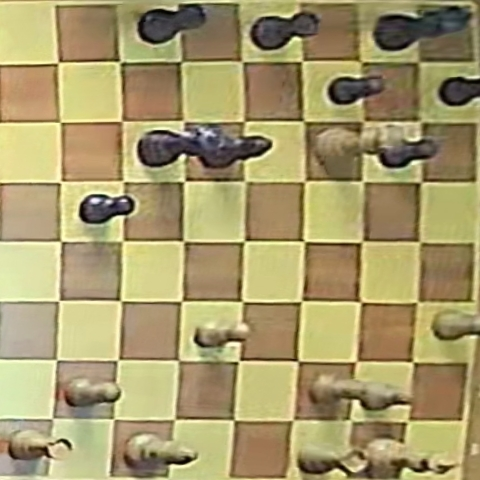black-bishop: (198, 134, 273, 170)
black-king: (375, 5, 471, 52)
black-pawn: (377, 138, 441, 169), (78, 193, 135, 224), (328, 74, 385, 105), (439, 75, 480, 107)
black-queen: (136, 125, 227, 168)
black-rook: (138, 5, 206, 45), (252, 12, 320, 50)
white-bishop: (124, 432, 198, 468)
white-king: (365, 437, 454, 475)
white-pawn: (359, 379, 417, 414), (309, 374, 368, 407), (64, 377, 120, 406), (194, 321, 250, 348), (433, 310, 479, 340)
white-queen: (313, 124, 404, 167)
white-rook: (298, 443, 367, 476), (4, 429, 73, 461)
